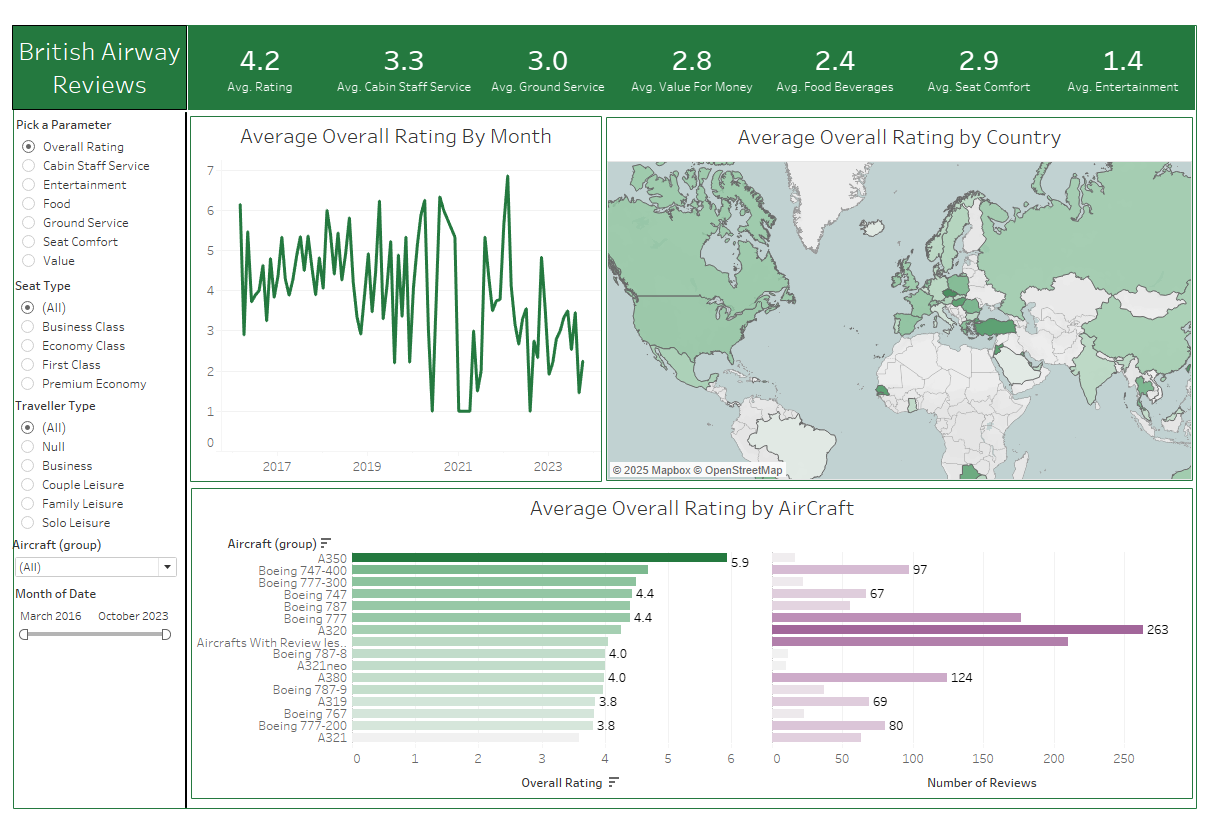

This screenshot's page, from the dashboard's own definition file:
{"tool":"tableau","page":{"name":"Dashboard 1","canvas":[1200,800],"ordinal":0},"visuals":[{"type":"text","box":[7,8,175,85]},{"type":"worksheet","title":"Summary","mark":"Automatic","box":[183,8,1007,85]},{"type":"blank","box":[180,95,2,696]},{"type":"parameter","param":"[Parameters].[Parameter 1]","box":[11,99,172,157]},{"type":"worksheet","title":"Month","mark":"Automatic","rows":["Calculation_1368531378122166272"],"cols":["date"],"box":[185,99,412,366]},{"type":"worksheet","title":"Map","mark":"Automatic","box":[601,100,587,364]},{"type":"filter","title":"Aircraft","param":"[federated.15j5ki5163rdqo1gochuo0jvv7wo].[none:seat_type:nk]","box":[10,260,160,119]},{"type":"filter","title":"Aircraft","param":"[federated.15j5ki5163rdqo1gochuo0jvv7wo].[none:traveller_type:nk]","box":[10,380,160,138]},{"type":"worksheet","title":"Aircraft","mark":"Automatic","cols":["Calculation_1368531378122166272","ba_reviews.csv_0B5ECD7066EC4127AFD02514680BECDD"],"box":[186,471,1002,311]},{"type":"filter","title":"Aircraft","param":"[federated.15j5ki5163rdqo1gochuo0jvv7wo].[Aircraft (group)]","box":[7,519,168,53]},{"type":"filter","title":"Map","param":"[federated.15j5ki5163rdqo1gochuo0jvv7wo].[tmn:date:qk]","box":[10,568,160,61]}]}

Visuals, with their boxes in screenshot pixels (x1, y1, x2, y2):
text: bbox(10, 24, 184, 108)
"Summary" worksheet: bbox(185, 24, 1183, 108)
blank: bbox(182, 110, 184, 800)
parameter: bbox(14, 114, 185, 269)
"Month" worksheet: bbox(186, 114, 595, 477)
"Map" worksheet: bbox(599, 115, 1181, 476)
"Aircraft" filter: bbox(13, 273, 172, 391)
"Aircraft" filter: bbox(13, 392, 172, 529)
"Aircraft" worksheet: bbox(187, 483, 1181, 791)
"Aircraft" filter: bbox(10, 530, 177, 583)
"Map" filter: bbox(13, 579, 172, 639)
